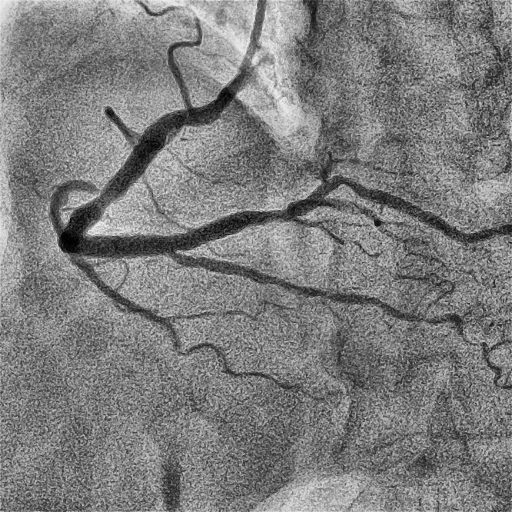pborca: (173, 175, 510, 251)
pda: (170, 252, 506, 389)
rca: (58, 99, 227, 258)
